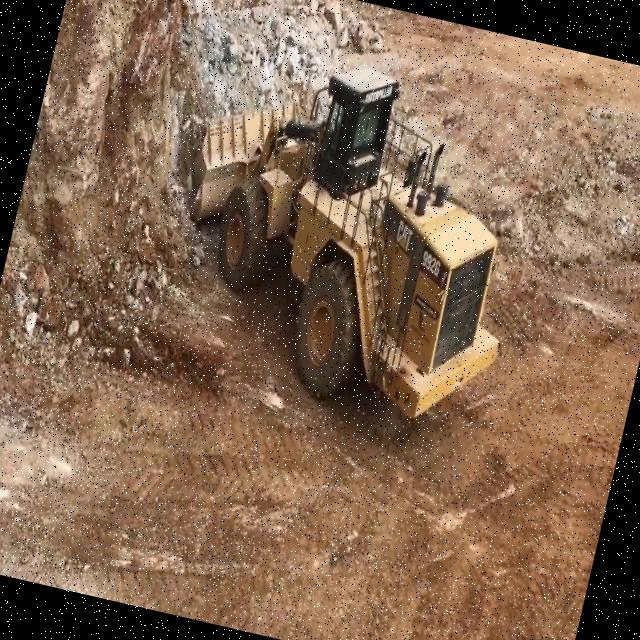Loader: (138, 26, 558, 452)
